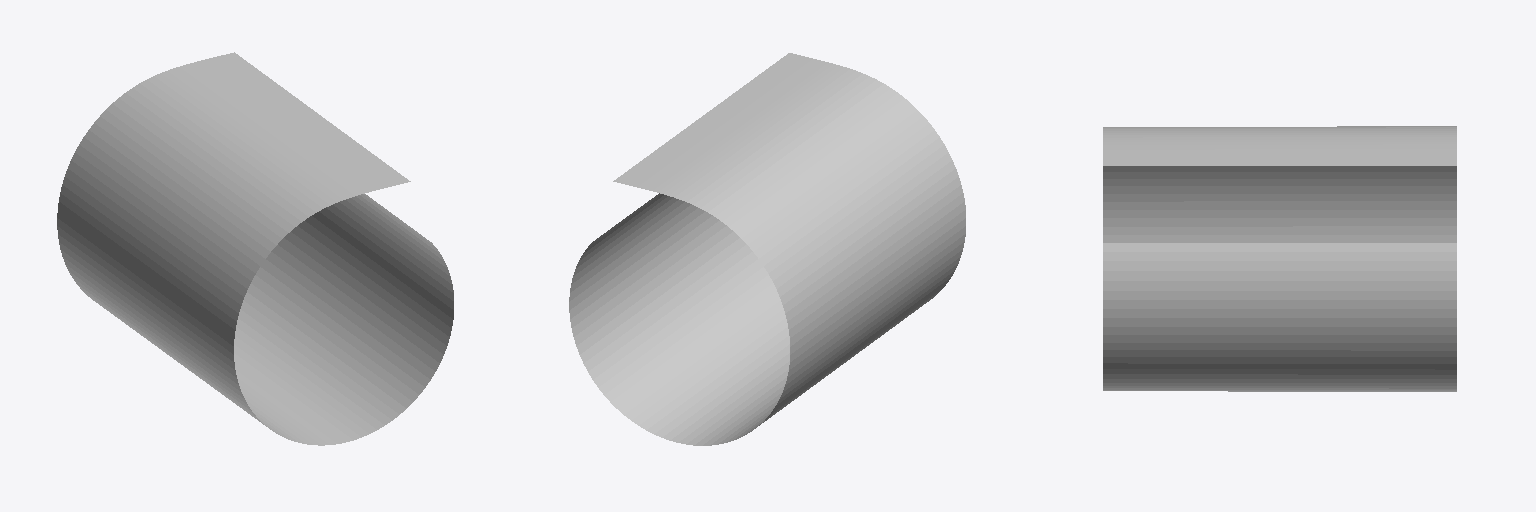
The model's file is CurvePaper_000009.obj.
3 views of the same model, side by side, from view 1: azimuth 30°, elevation 25°; view 2: azimuth 150°, elevation 25°; view 3: azimuth 270°, elevation 25° (orthographic).
Parts seen in each view (by area): view 1: Plane; view 2: Plane; view 3: Plane.
Part boxes in pixels (bbox=[...]): Plane: bbox=[57, 52, 453, 445]; Plane: bbox=[569, 53, 965, 445]; Plane: bbox=[1103, 126, 1456, 391].
Bounding box in the file's own units: 1.64 × 1.74 × 2.26.